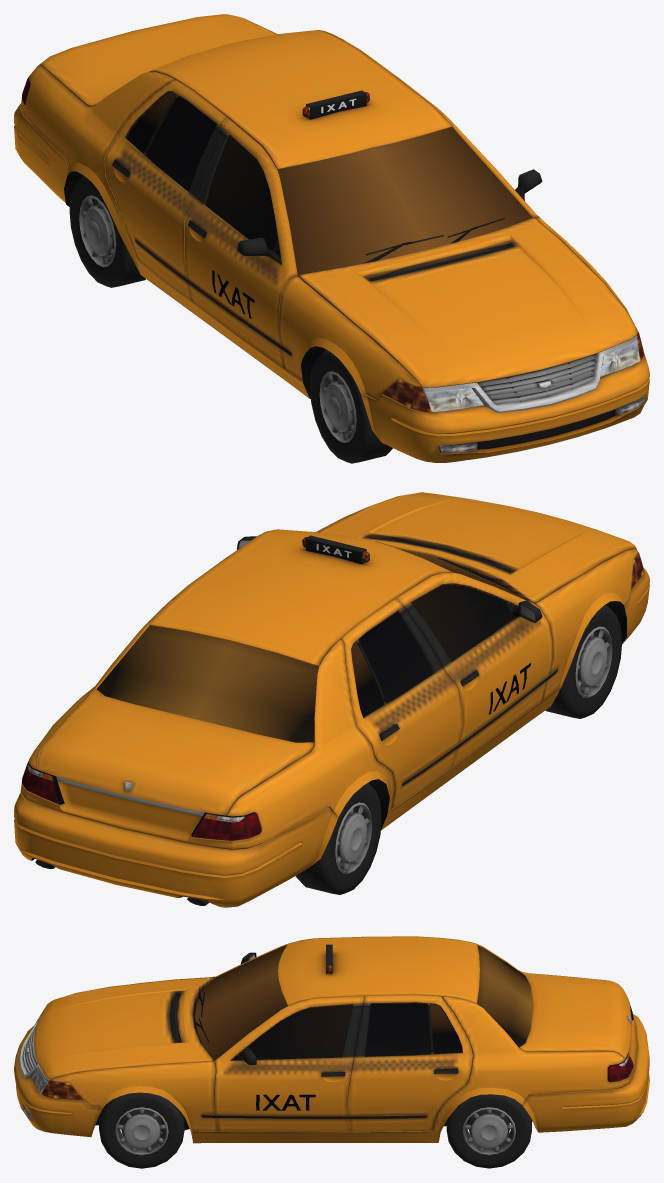
The model's file is taxi.glb.
3 renders of one model, top to bottom at view 1: azimuth 30°, elevation 25°; view 2: azimuth 150°, elevation 25°; view 3: azimuth 270°, elevation 25°, orthographic. The views are drawn at different scales.
Parts seen in each view (by area): view 1: taxi body, Front Right Wheel, Rear Right Wheel; view 2: taxi body, Rear Right Wheel, Front Right Wheel; view 3: taxi body, Front Left Wheel, Rear Left Wheel.
Part boxes in pixels (x1,y1,x2,y2): taxi body: (14,14,649,462); Front Right Wheel: (310,349,392,463); Rear Right Wheel: (69,175,145,287); taxi body: (14,492,649,907); Rear Right Wheel: (295,783,381,894); Front Right Wheel: (545,604,622,718); taxi body: (14,936,649,1143); Front Left Wheel: (99,1092,184,1168); Rear Left Wheel: (446,1094,531,1168).
Size of the model in its own units: 2 by 1.5 by 5.09.
Materials: 1 (1 with a texture image).
